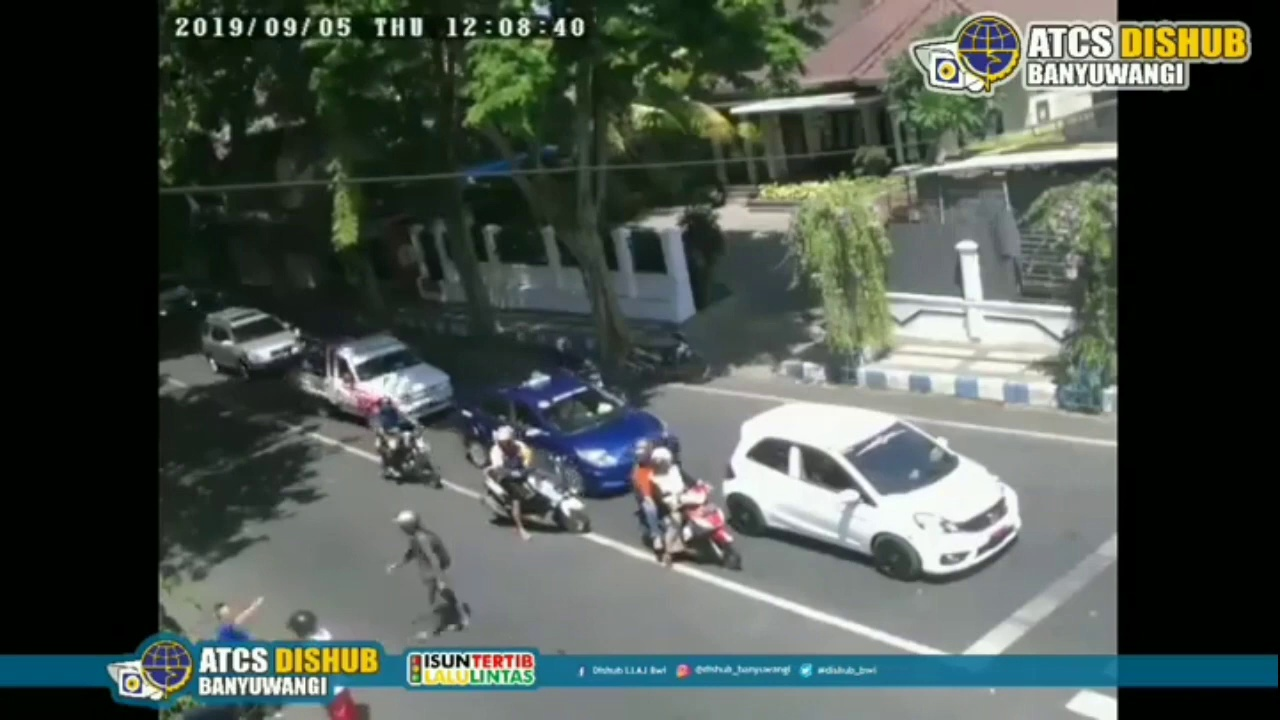car: (728, 405, 1027, 581), (469, 365, 668, 498), (297, 332, 453, 426), (200, 302, 304, 380)
motorbike: (630, 439, 737, 574), (474, 417, 594, 532), (374, 397, 445, 488)
